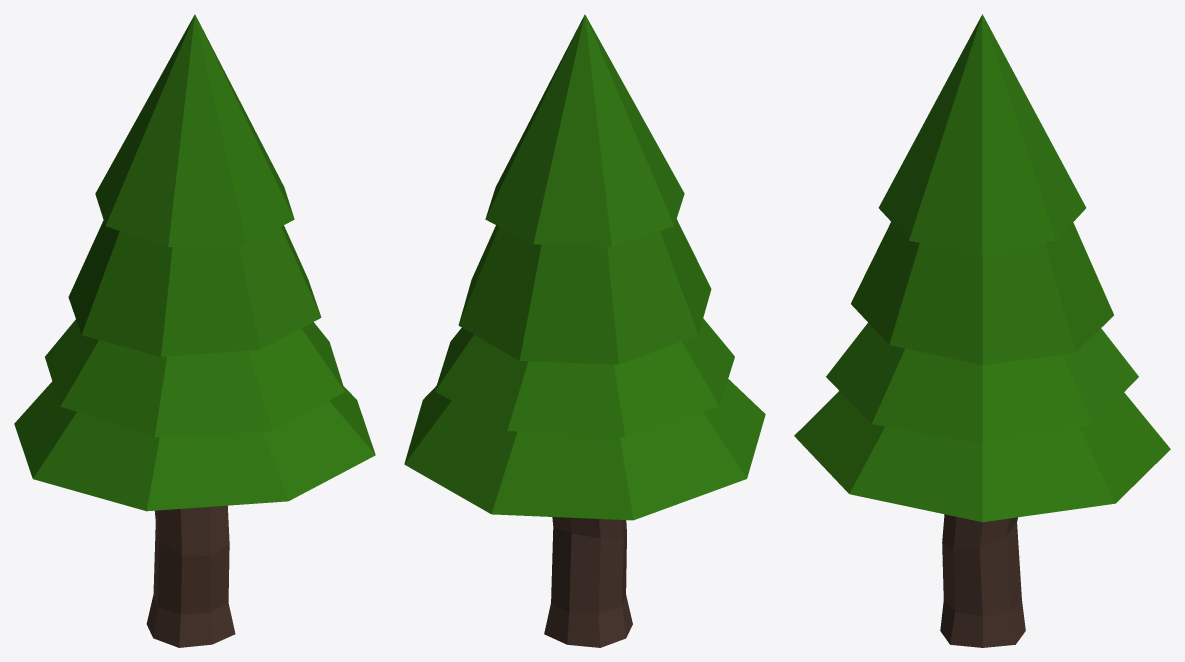
Rendered from Tree.fbx.
The picture shows the model from 3 angles, left to right: view 1: azimuth 30°, elevation 25°; view 2: azimuth 150°, elevation 25°; view 3: azimuth 270°, elevation 25°; orthographic projection.
Parts seen in each view (by area): view 1: Tree; view 2: Tree; view 3: Tree.
Part boxes in pixels (left/top/right/bottom): Tree: left=14, top=14, right=375, bottom=647; Tree: left=404, top=14, right=765, bottom=647; Tree: left=794, top=14, right=1170, bottom=647.
Bounding box in the file's own units: 4.97 × 9 × 4.97.
